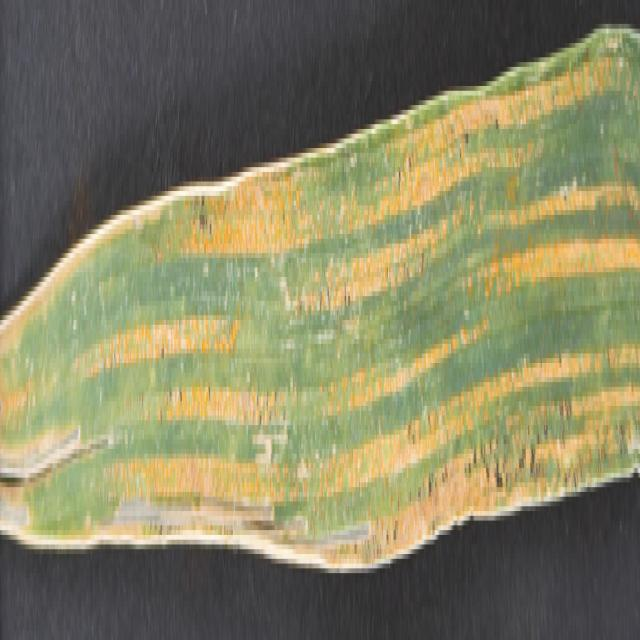leaf rust: (0, 43, 640, 582)
